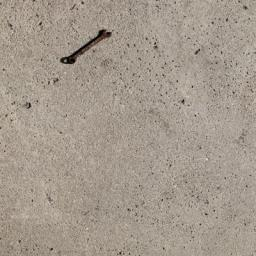FOD: (60, 27, 119, 67)
